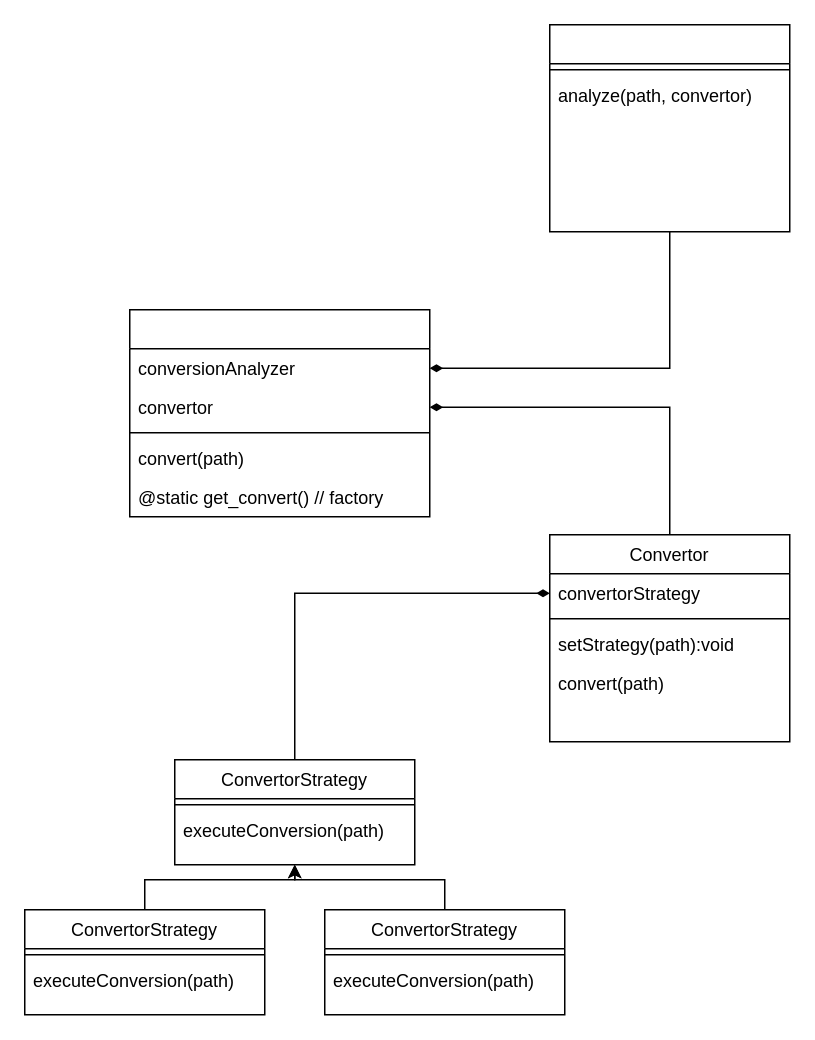
This 815x1040 diagram has some shape labels left out. The shapes that lost their labels are listed below. From the top down, each one's box as (x1, y1, x2, y2) in pixels, then its label:
(548, 23, 790, 232): ConvertionAnalyzer
(128, 308, 430, 517): ConvertionCoordinator
